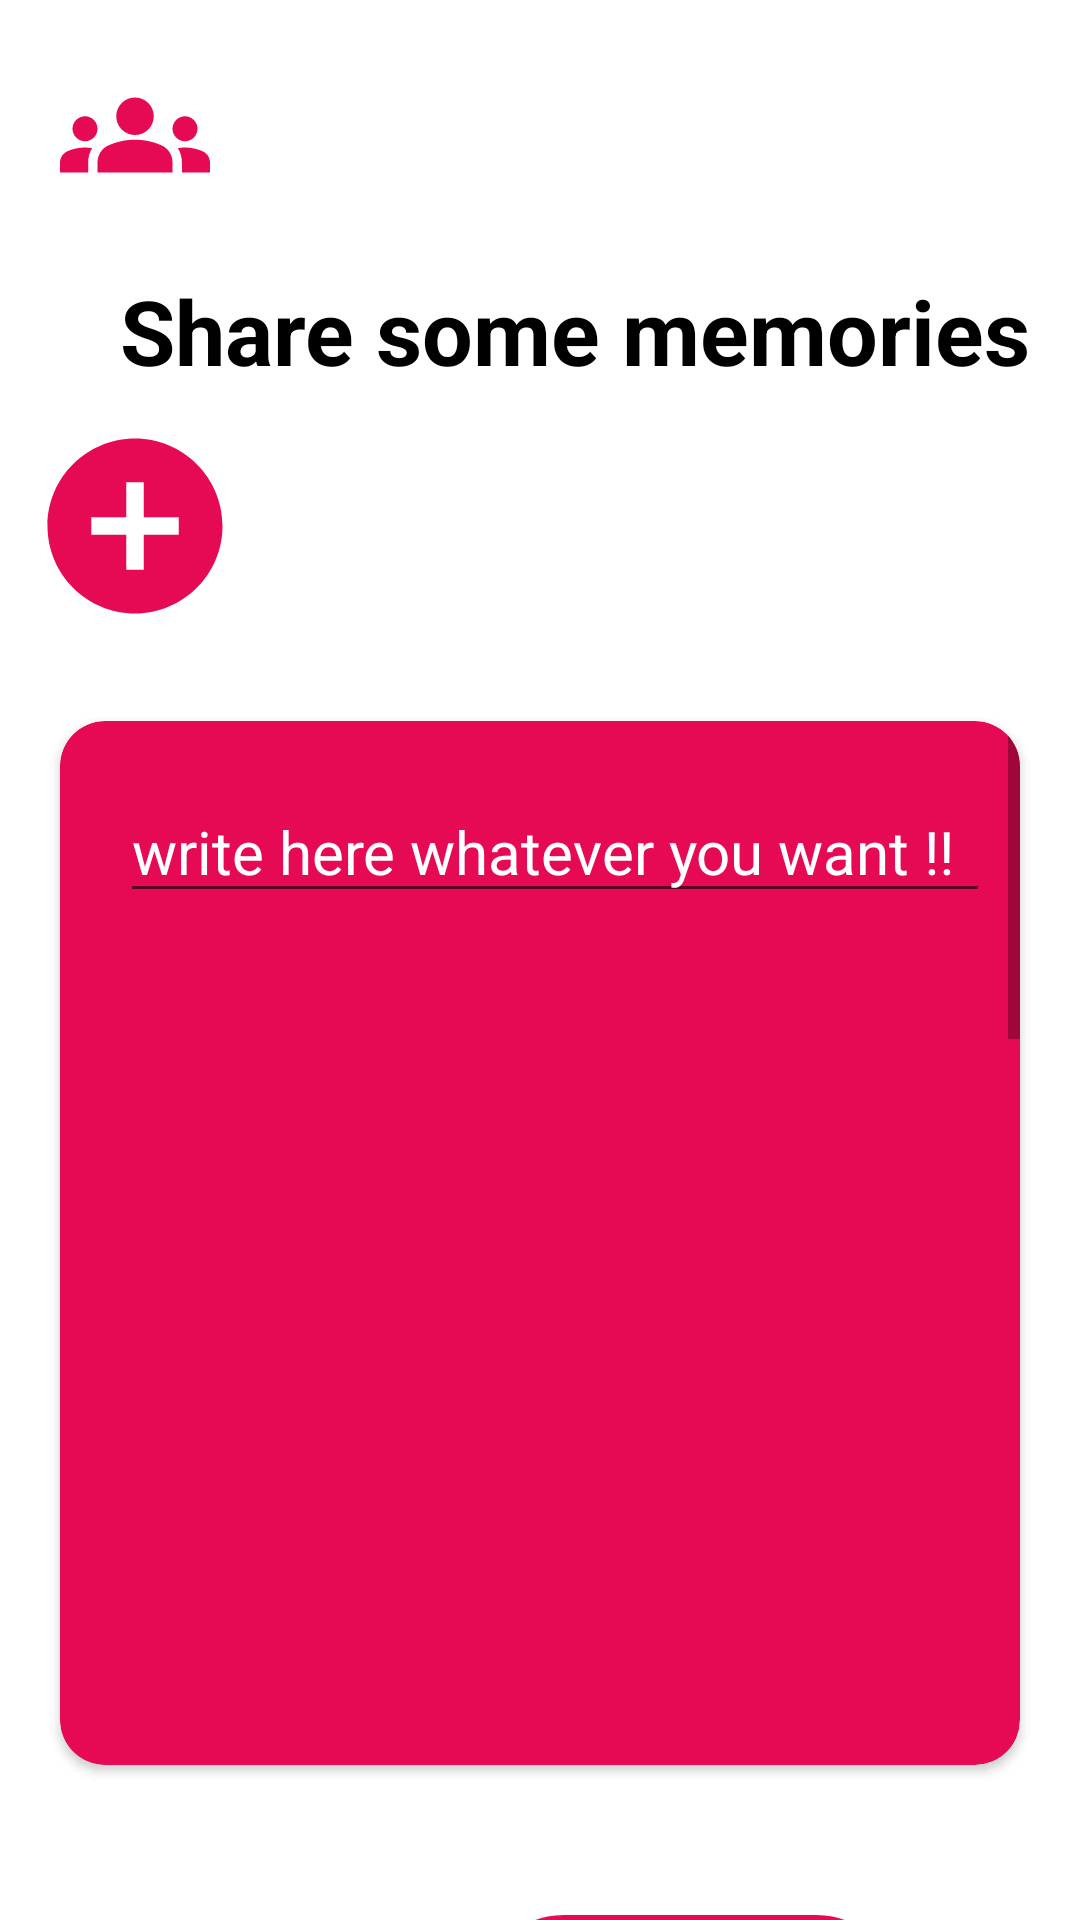

Named icons in this screenshot (1080px×1920px) and their bounding boxes, detection(x1, y1, x2, y2):
add circle: detection(47, 438, 223, 614)
groups: detection(60, 97, 210, 173)
